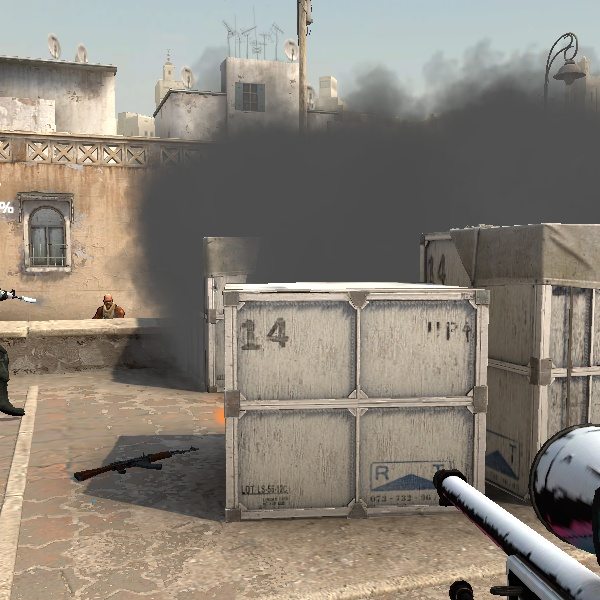t_body: (89, 291, 128, 319)
t_head: (102, 294, 114, 307)
